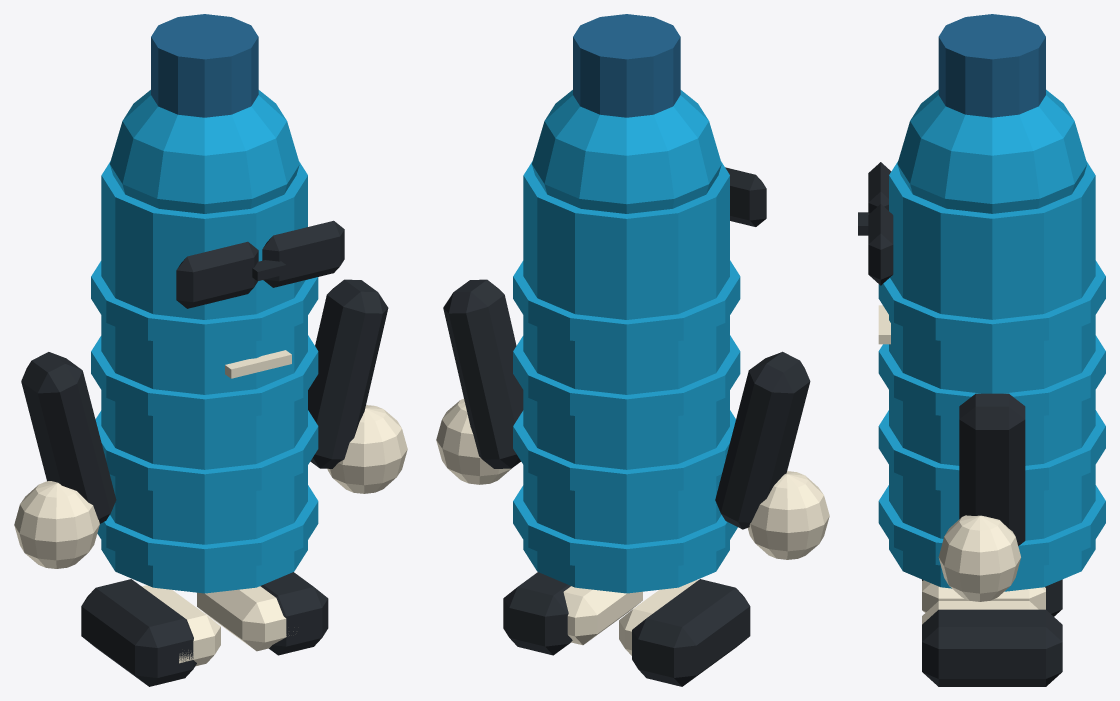
The model's file is bottle.glb.
3 renders of one model, left to right at view 1: azimuth 30°, elevation 25°; view 2: azimuth 150°, elevation 25°; view 3: azimuth 270°, elevation 25°, orthographic.
Visible parts, largest first — view 1: bottle; view 2: bottle; view 3: bottle.
Part boxes in pixels (x1=…): bottle: x1=14, y1=14, x2=407, y2=686; bottle: x1=436, y1=14, x2=829, y2=686; bottle: x1=858, y1=14, x2=1105, y2=686.
Size of the model in its own units: 1.07 by 1.63 by 0.6.
